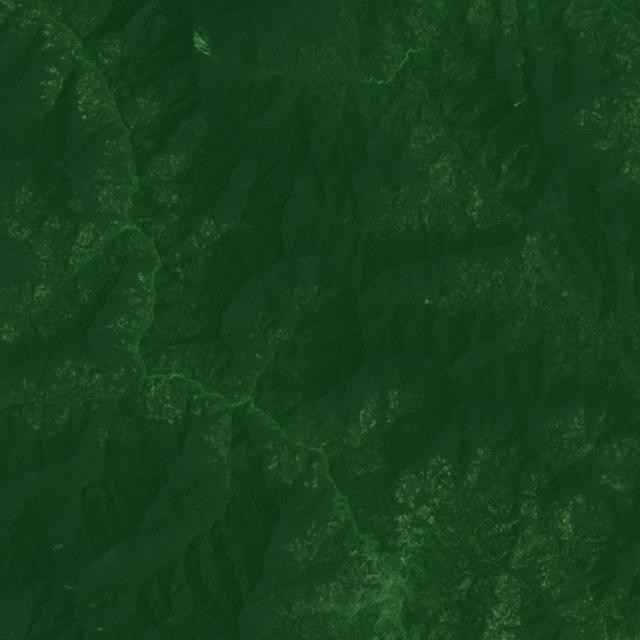landslides: (195, 32, 218, 62), (421, 206, 432, 226), (199, 27, 211, 44), (514, 94, 527, 108), (138, 272, 147, 285), (256, 354, 267, 364)
